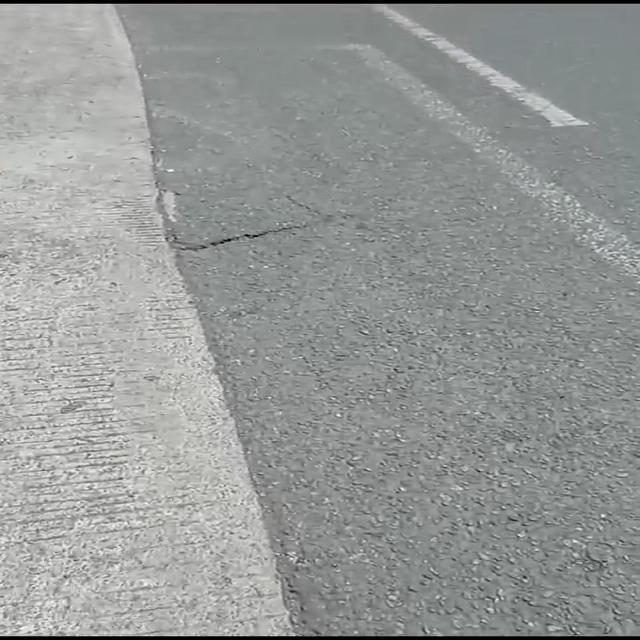Sambungan: (0, 0, 309, 640)
